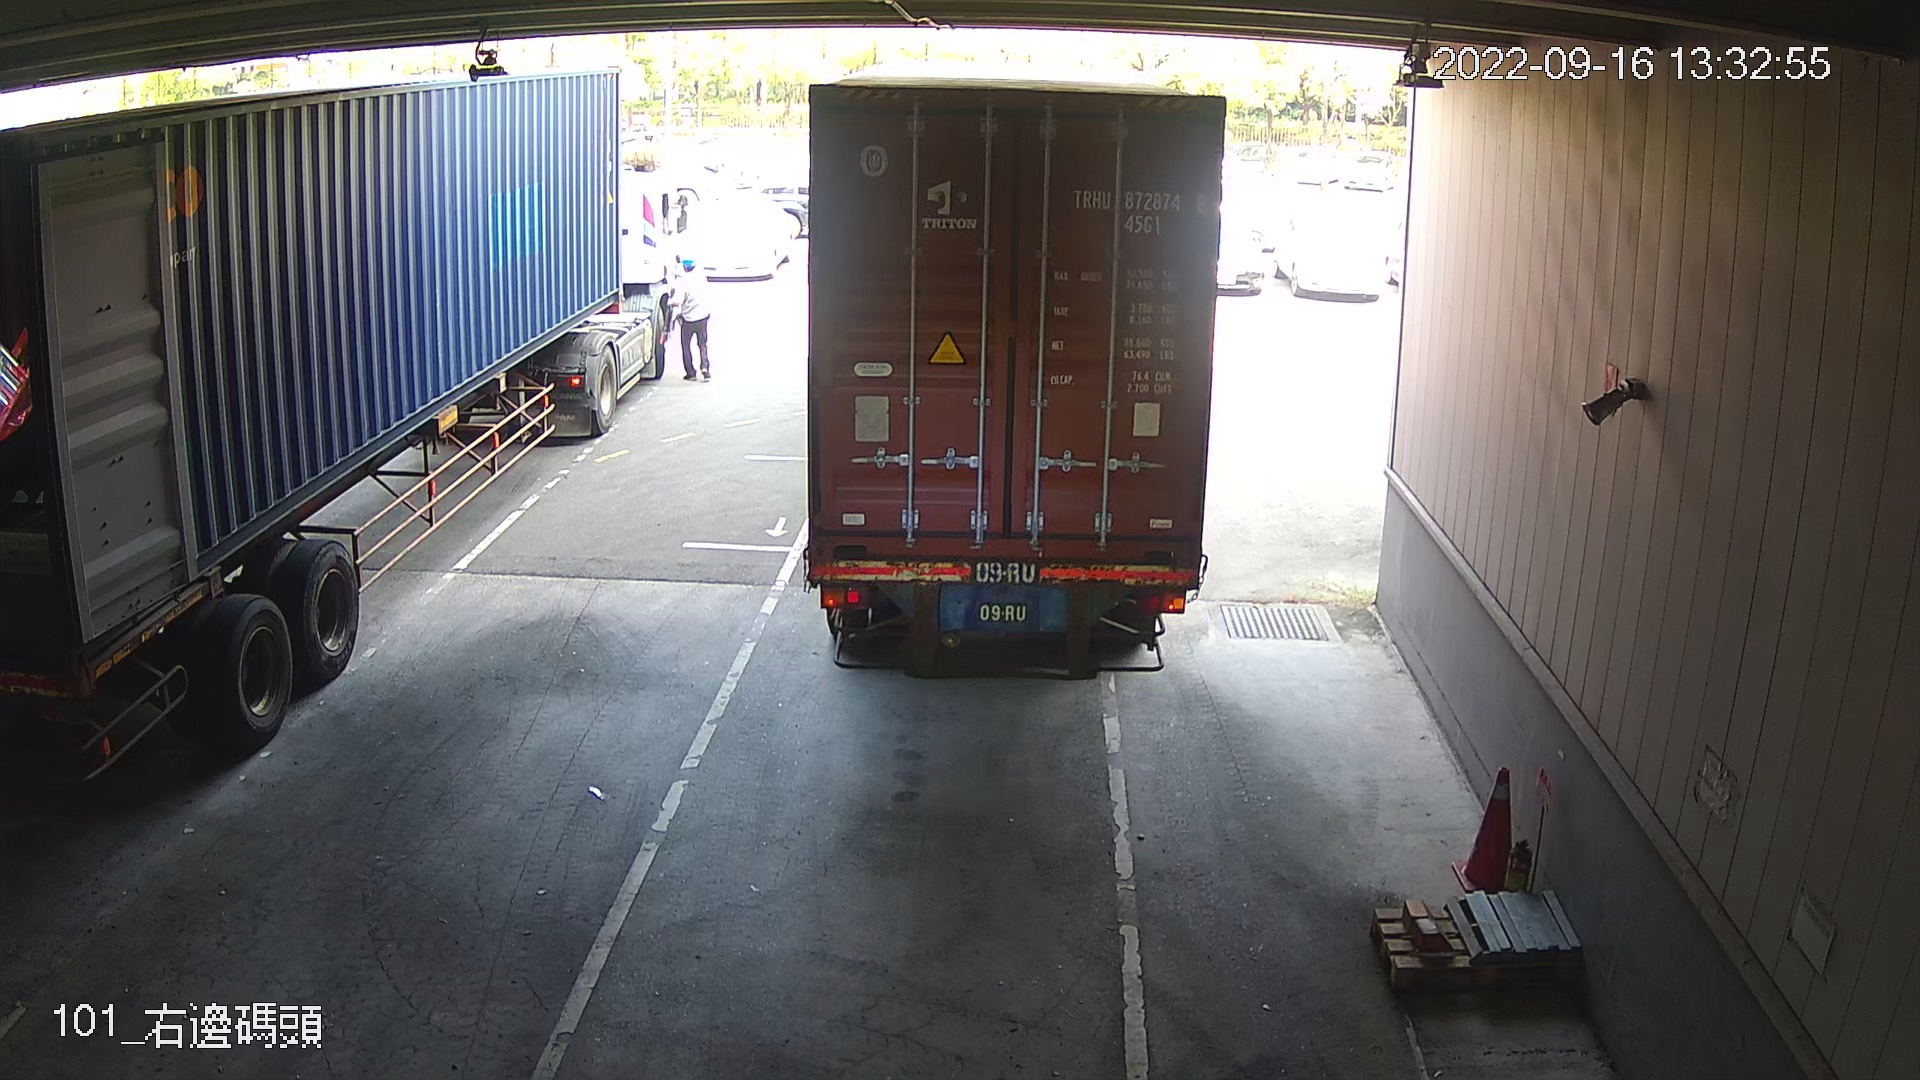container: (1062, 175, 1215, 247)
